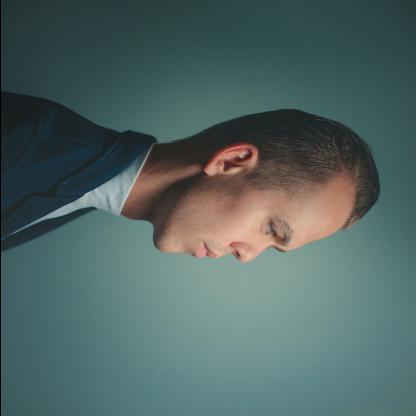Eye: (258, 218, 279, 237)
Mouth: (194, 241, 218, 259)
Nose: (229, 242, 272, 262)
